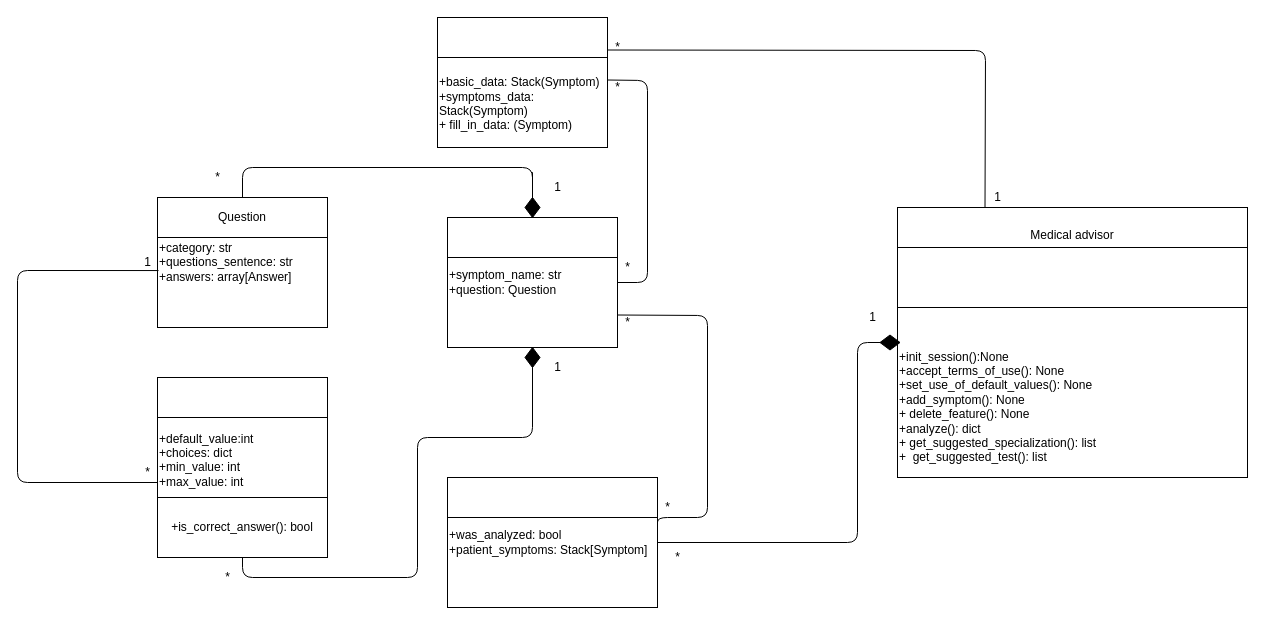
Some shapes in this 1265 by 625 pixel diagram are drawn without their labels. Each missing label, with the centre of its shape:
"+ACCEPTANCE_STATEMENT: str +base_url: str +session_id: str" belongs at point (1072, 277).
"Answer" belongs at point (242, 397).
"Patient" belongs at point (552, 497).
"Symptom" belongs at point (532, 237).
"SymptomDB" belongs at point (522, 37).
